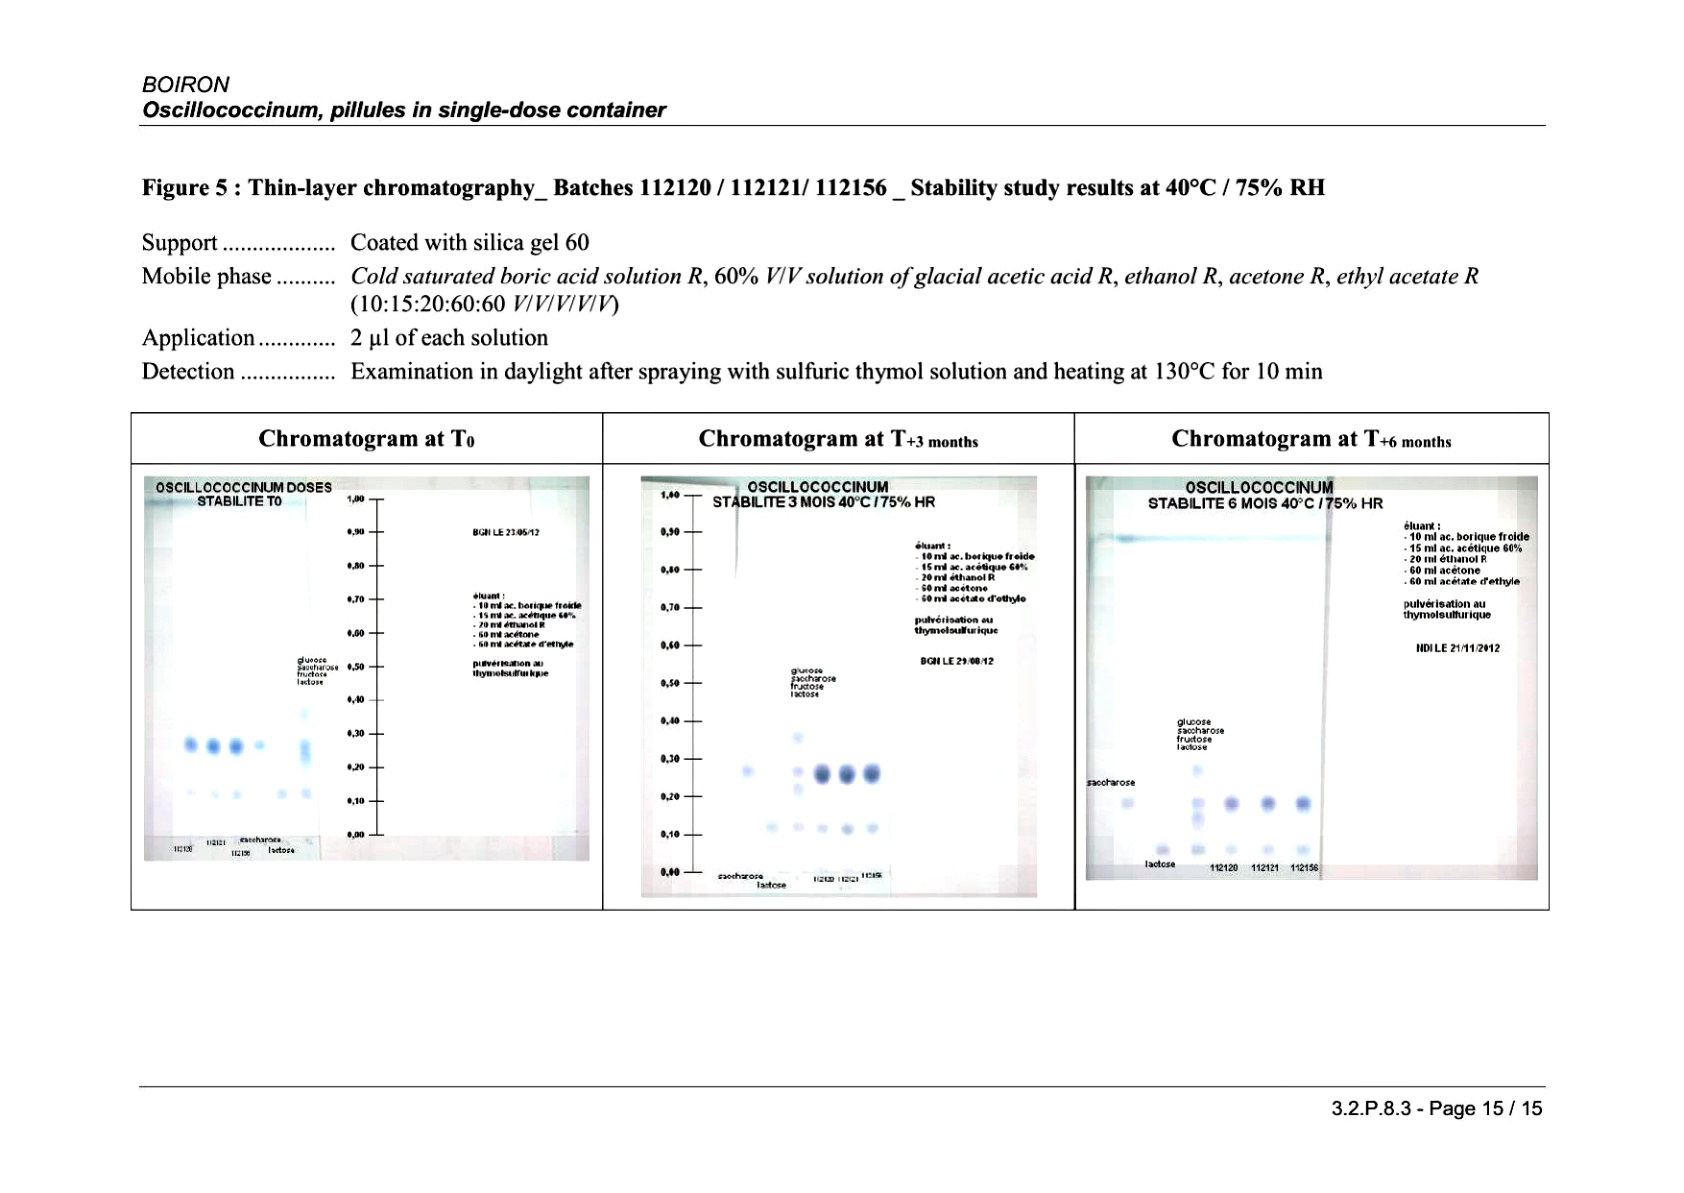full_lined: (129, 412, 1550, 912)
